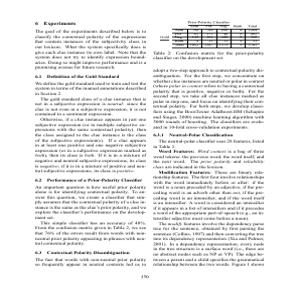table: (154, 19, 265, 49)
text: (34, 21, 150, 271), (154, 50, 266, 271)
